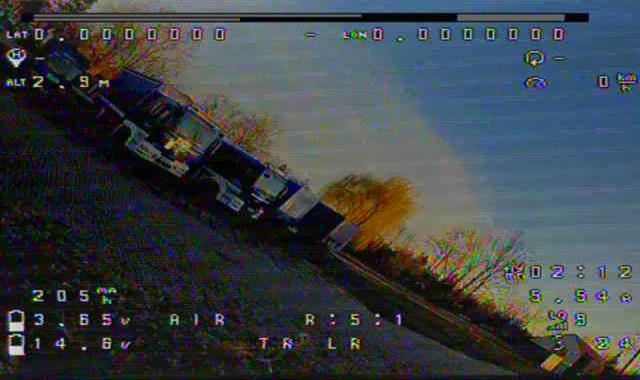car: (9, 32, 104, 112)
truck: (75, 54, 234, 193), (177, 135, 300, 237)
